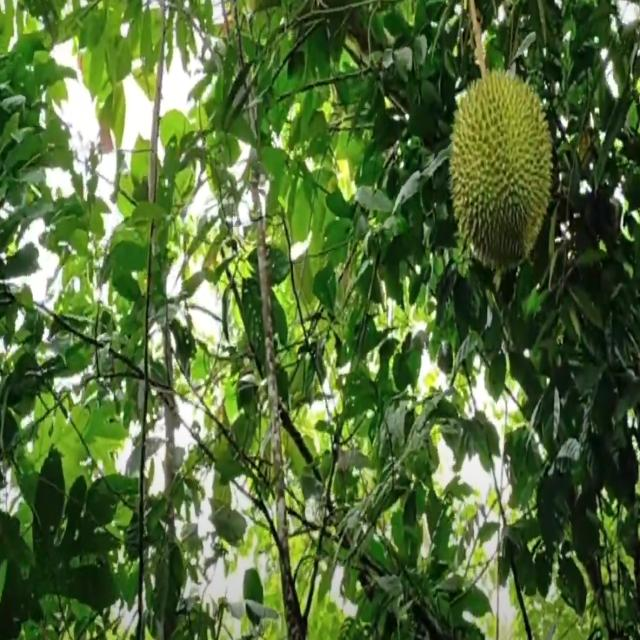immature: (450, 68, 552, 265)
